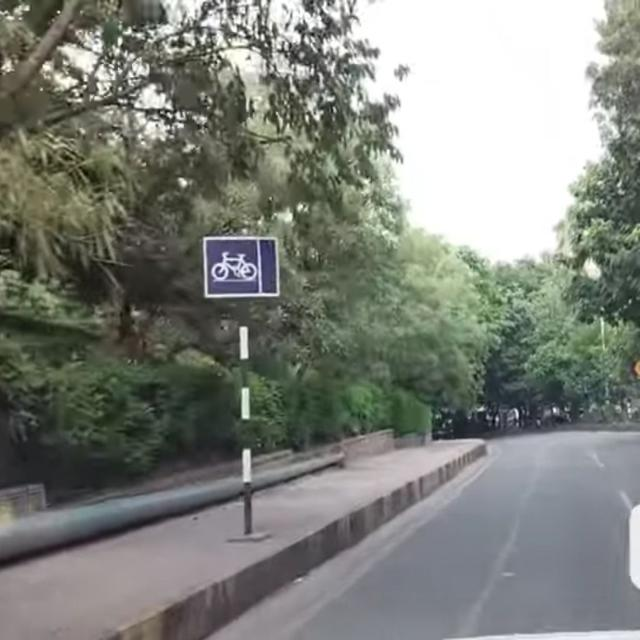bicycle: (195, 230, 287, 306)
